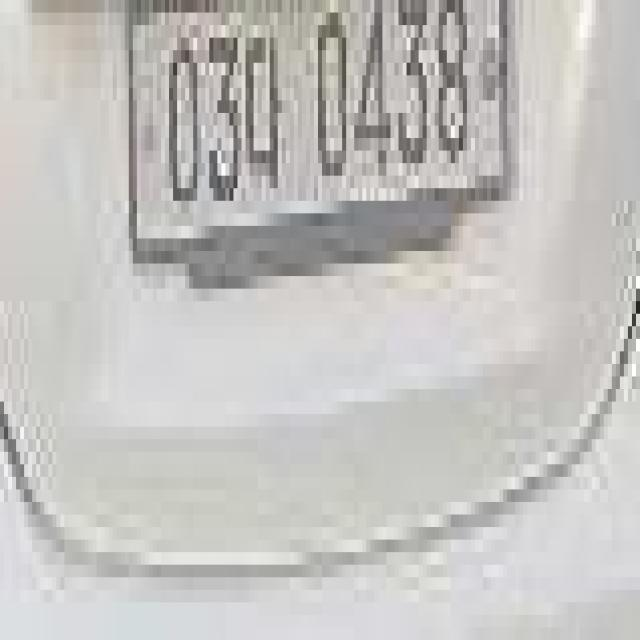illegal_plate: (128, 0, 512, 262)
